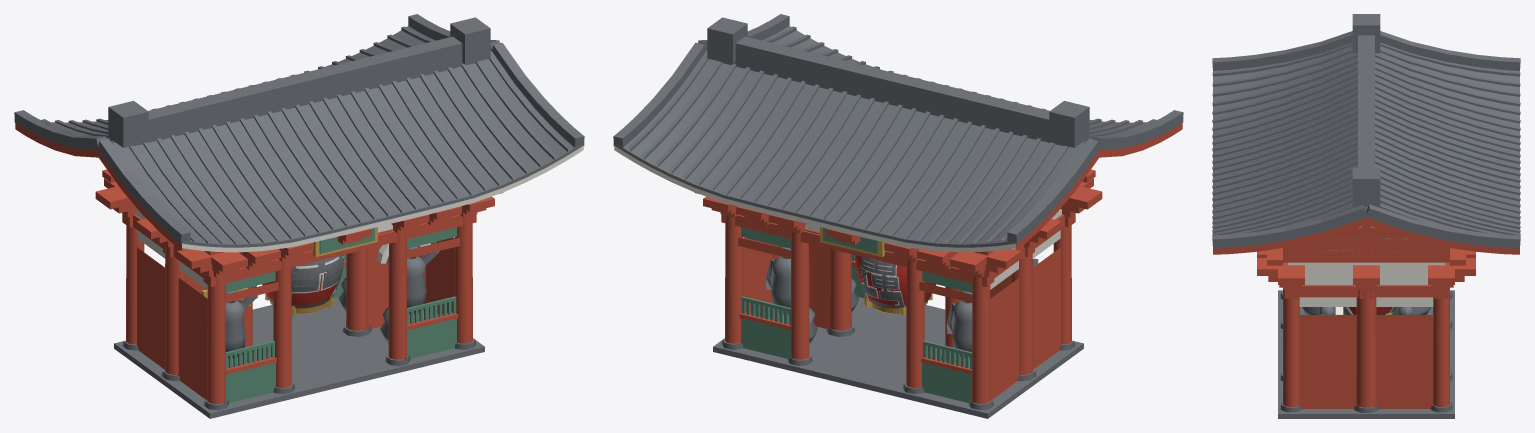
File: tokyo-kaminarimon.detail.glb
3 views of the same model, side by side, from view 1: azimuth 30°, elevation 25°; view 2: azimuth 150°, elevation 25°; view 3: azimuth 270°, elevation 25° (orthographic). The views are drawn at different scales.
Visible parts, largest first — view 1: Kaminarimon; view 2: Kaminarimon; view 3: Kaminarimon.
Part boxes in pixels (x1=…): Kaminarimon: x1=14, y1=14, x2=584, y2=418; Kaminarimon: x1=613, y1=14, x2=1183, y2=418; Kaminarimon: x1=1212, y1=14, x2=1520, y2=418.
Bounding box in the file's own units: 17.45 × 11.7 × 12.54.
